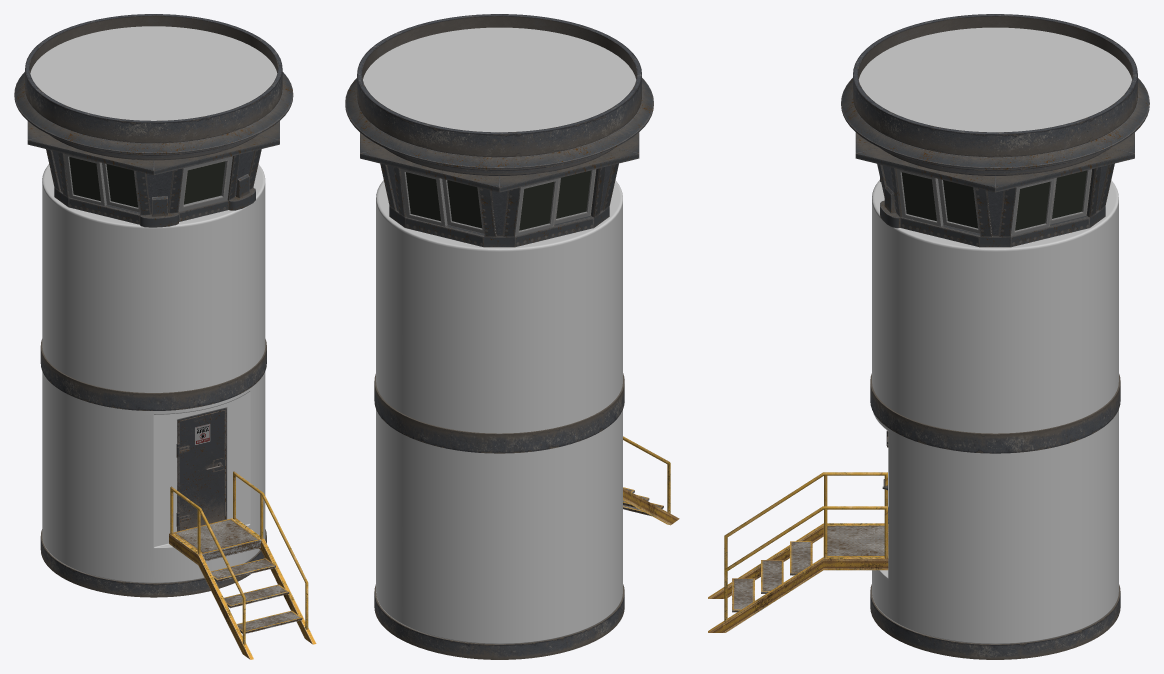
Rendered from SM_GuardTower_01.FBX.
3 renders of one model, left to right at view 1: azimuth 30°, elevation 25°; view 2: azimuth 150°, elevation 25°; view 3: azimuth 270°, elevation 25°, orthographic. The views are drawn at different scales.
Visible parts, largest first — view 1: SM_GuardTower_01; view 2: SM_GuardTower_01; view 3: SM_GuardTower_01.
Part boxes in pixels (<box>): SM_GuardTower_01: <box>14,14,316,659</box>; SM_GuardTower_01: <box>345,14,679,659</box>; SM_GuardTower_01: <box>708,14,1149,659</box>.
Size of the model in its own units: 389 by 532 by 719.
